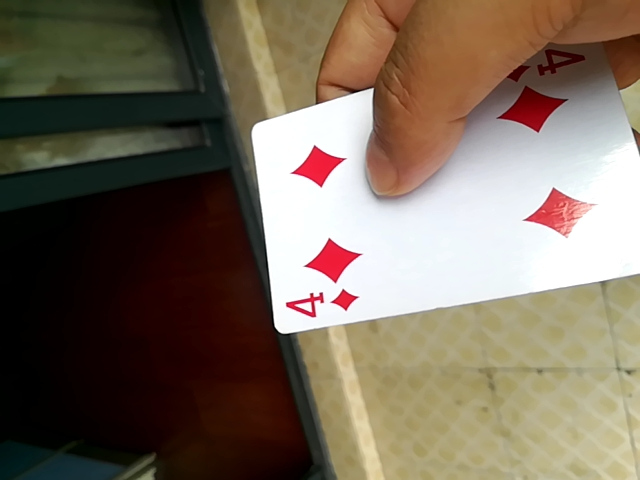fk 4: (245, 51, 640, 330)
